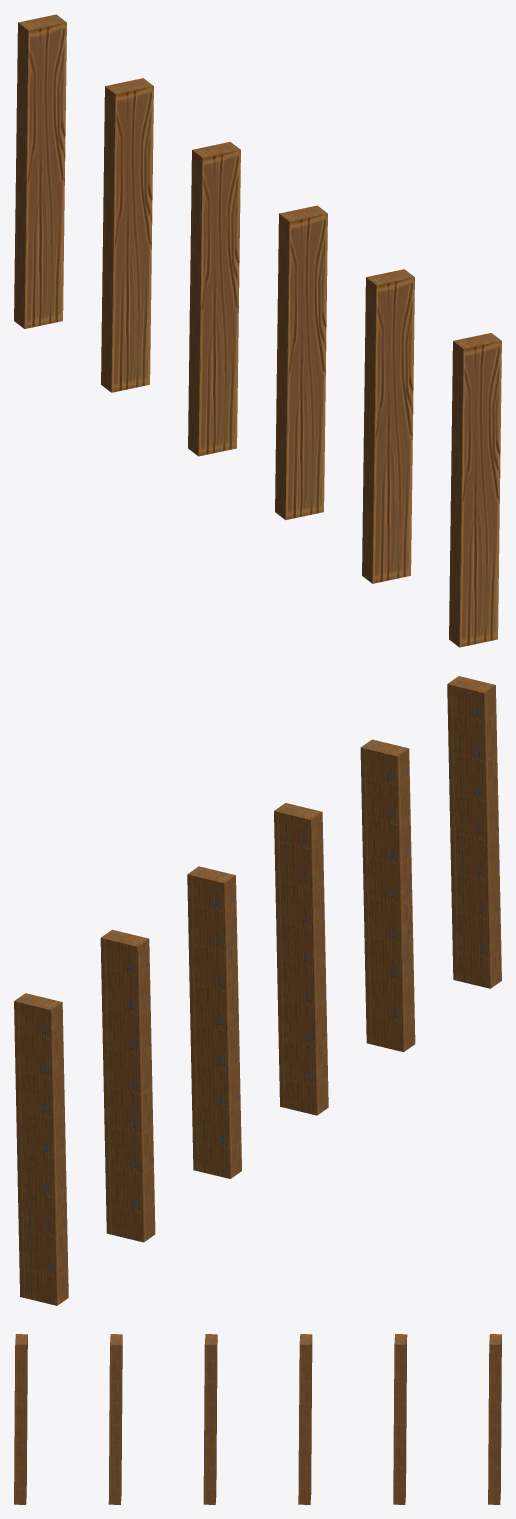
3 views of the same model, one above another, from view 1: azimuth 30°, elevation 25°; view 2: azimuth 150°, elevation 25°; view 3: azimuth 270°, elevation 25° (orthographic). The views are drawn at different scales.
Visible parts, largest first — view 1: Cube.404; view 2: Cube.404; view 3: Cube.404.
Part boxes in pixels (bbox=[...]): Cube.404: bbox=[14, 14, 501, 647]; Cube.404: bbox=[14, 676, 501, 1305]; Cube.404: bbox=[14, 1334, 501, 1504].
Size of the model in its own units: 21.84 by 143 by 390.
1 material, 1 textured.
